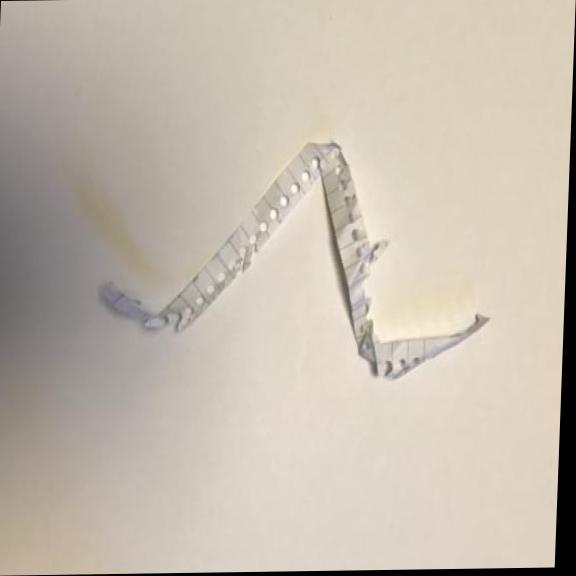Kertas: (198, 120, 342, 350), (298, 130, 390, 419), (65, 264, 211, 372), (346, 295, 494, 393)
